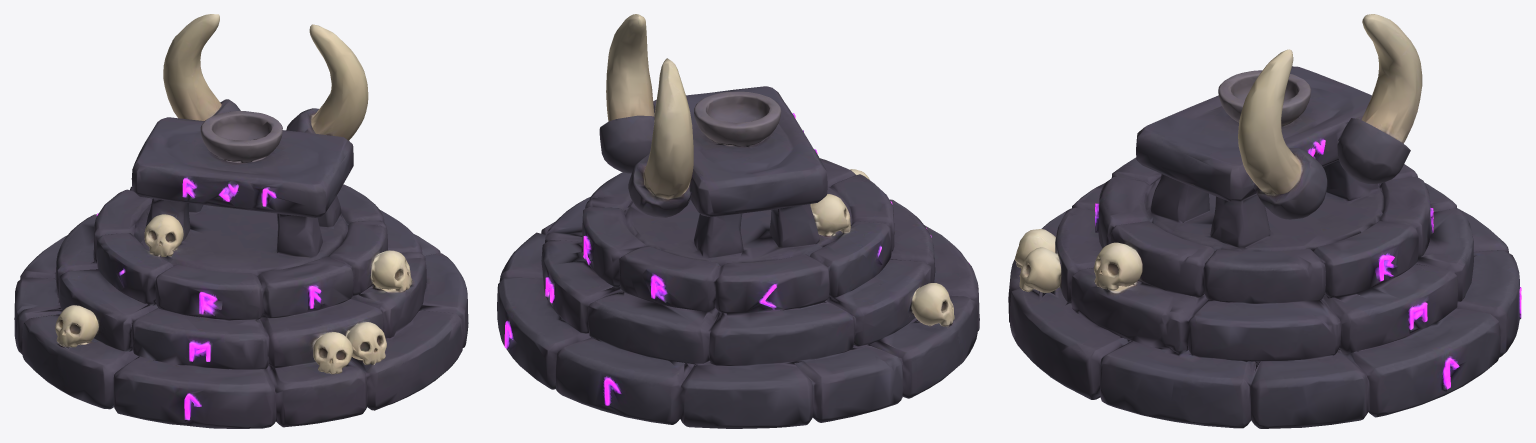
Rendered from ev_altar-C67YkbVg.glb.
3 renders of one model, left to right at view 1: azimuth 30°, elevation 25°; view 2: azimuth 150°, elevation 25°; view 3: azimuth 270°, elevation 25°, orthographic. The views are drawn at different scales.
Visible parts, largest first — view 1: tripo_node_e1108df7-5103-4675-a9d1-1926fc0ab032; view 2: tripo_node_e1108df7-5103-4675-a9d1-1926fc0ab032; view 3: tripo_node_e1108df7-5103-4675-a9d1-1926fc0ab032.
Boxes of the visible parts, <box> form: tripo_node_e1108df7-5103-4675-a9d1-1926fc0ab032: <box>14,14,468,428</box>; tripo_node_e1108df7-5103-4675-a9d1-1926fc0ab032: <box>497,14,979,428</box>; tripo_node_e1108df7-5103-4675-a9d1-1926fc0ab032: <box>1008,14,1521,428</box>.
Size of the model in its own units: 3.3 by 2.27 by 3.29.
Materials: 1 (1 with a texture image).
